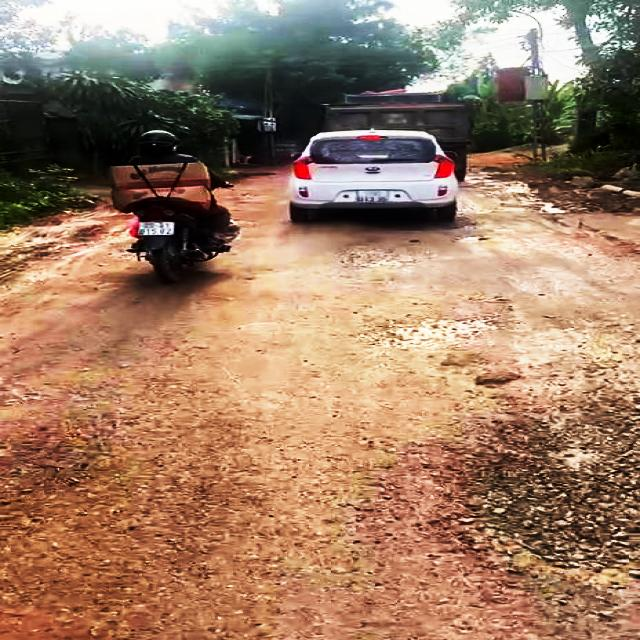pothole: (448, 398, 640, 580), (368, 311, 497, 356)
